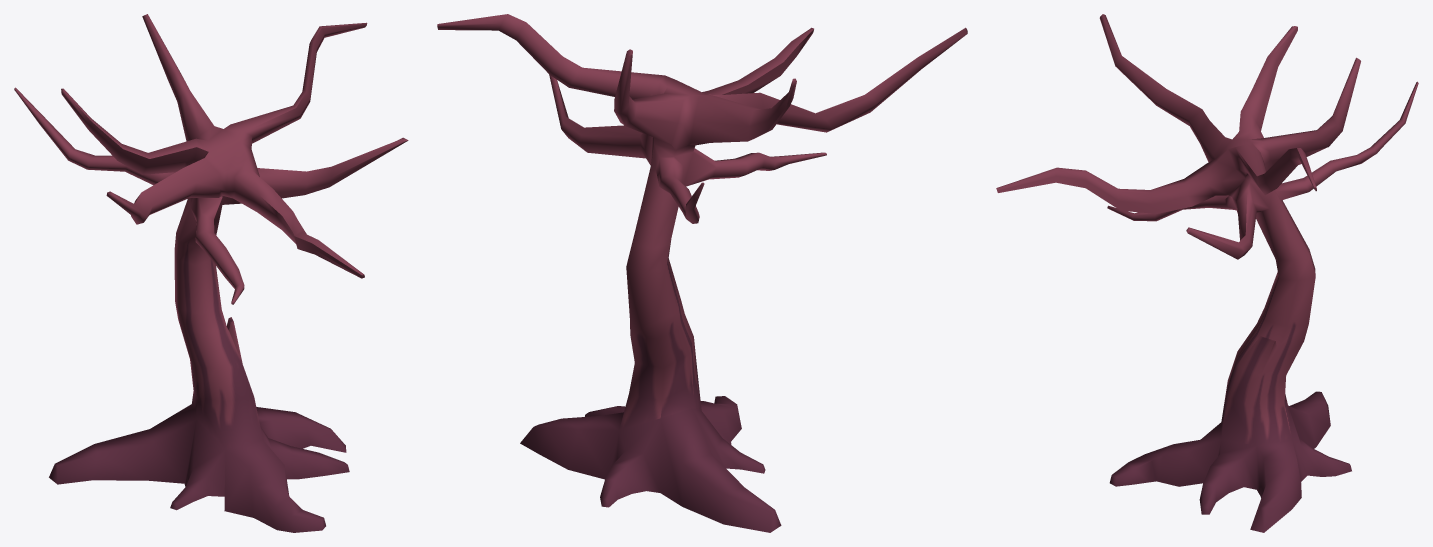
The model's file is mdl_treeA.fbx.
3 renders of one model, left to right at view 1: azimuth 30°, elevation 25°; view 2: azimuth 150°, elevation 25°; view 3: azimuth 270°, elevation 25°, orthographic. The views are drawn at different scales.
Parts seen in each view (by area): view 1: mdl_treeA; view 2: mdl_treeA; view 3: mdl_treeA.
Boxes of the visible parts, bbox=[...] form: mdl_treeA: bbox=[14, 14, 408, 532]; mdl_treeA: bbox=[437, 14, 967, 532]; mdl_treeA: bbox=[996, 14, 1418, 532].
Bounding box in the file's own units: 9.08 × 10.15 × 9.51.
